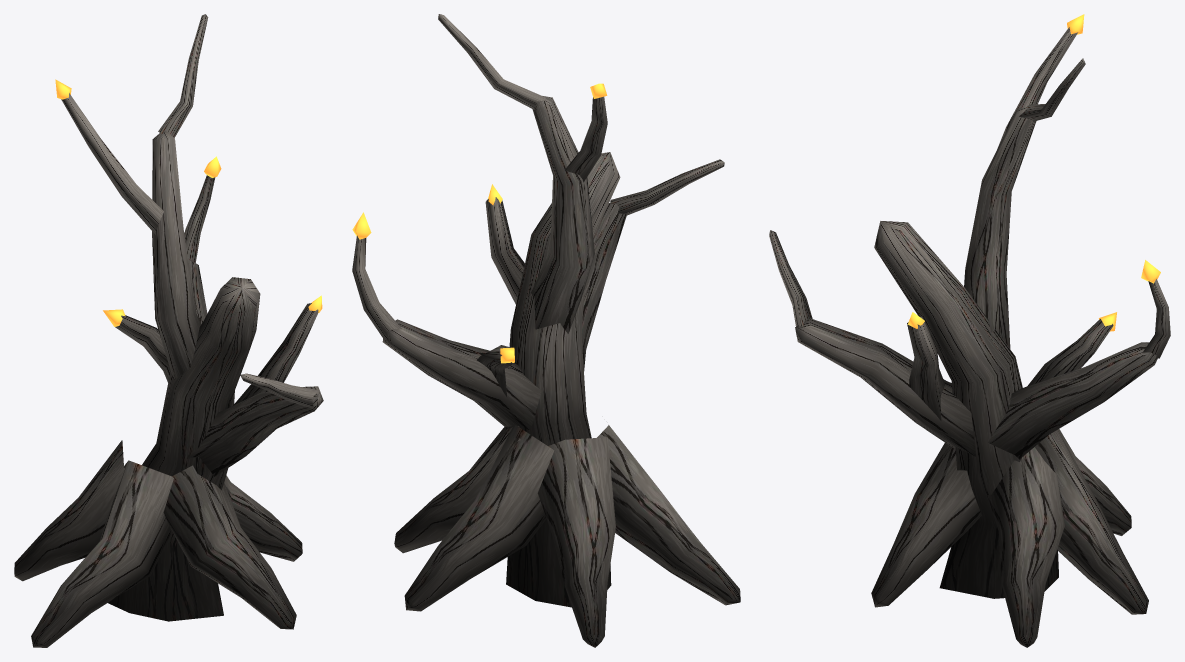
Rendered from tree_dead_b.glb.
3 views of the same model, side by side, from view 1: azimuth 30°, elevation 25°; view 2: azimuth 150°, elevation 25°; view 3: azimuth 270°, elevation 25° (orthographic). The views are drawn at different scales.
Visible parts, largest first — view 1: tree_dead_b; view 2: tree_dead_b; view 3: tree_dead_b.
Boxes of the visible parts, box(x1,y1,x2,y2) form: tree_dead_b: box(14, 14, 323, 647); tree_dead_b: box(352, 14, 740, 647); tree_dead_b: box(769, 14, 1170, 647).
Size of the model in its own units: 1.37 by 2.39 by 1.56.
Materials: 2 (1 with a texture image).
